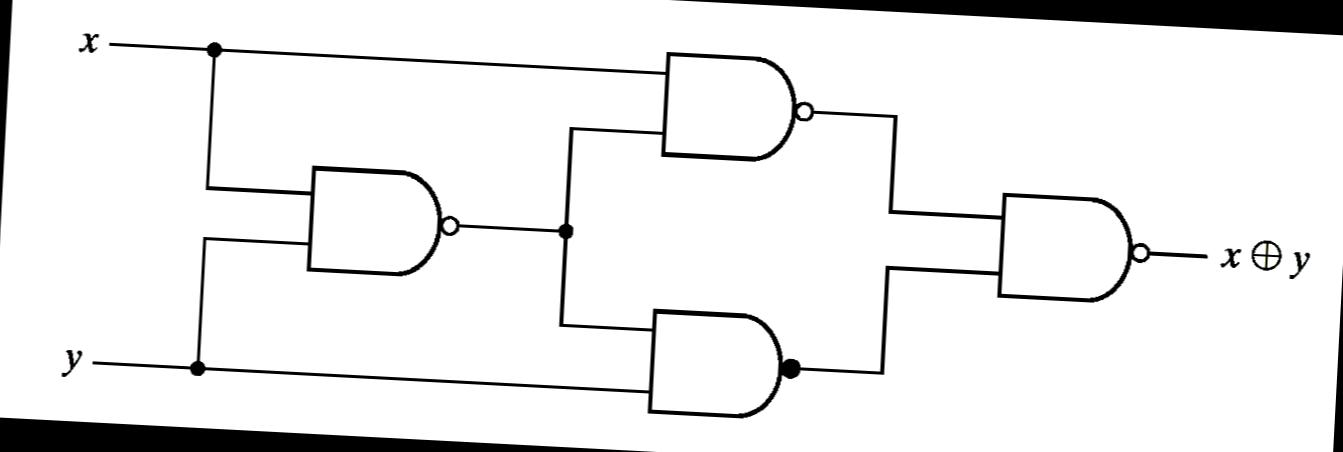nand: (294, 153, 472, 288), (984, 180, 1161, 314), (632, 300, 813, 431), (648, 42, 826, 174)
